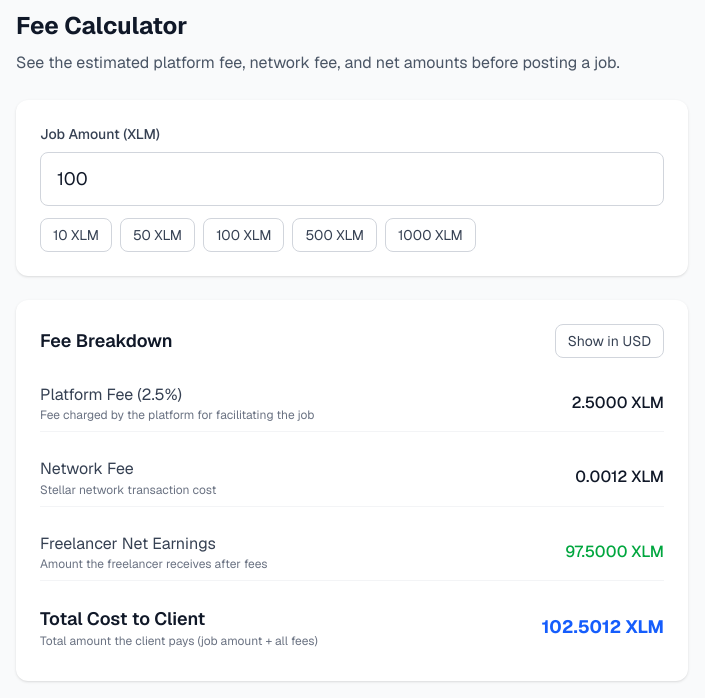
Test case: FeeCalculatorPage › updates amount on quick-preset click
The width and height of the screenshot is (705, 698).
Click the button "500 XLM" at (335, 235), box [292,218,377,252]
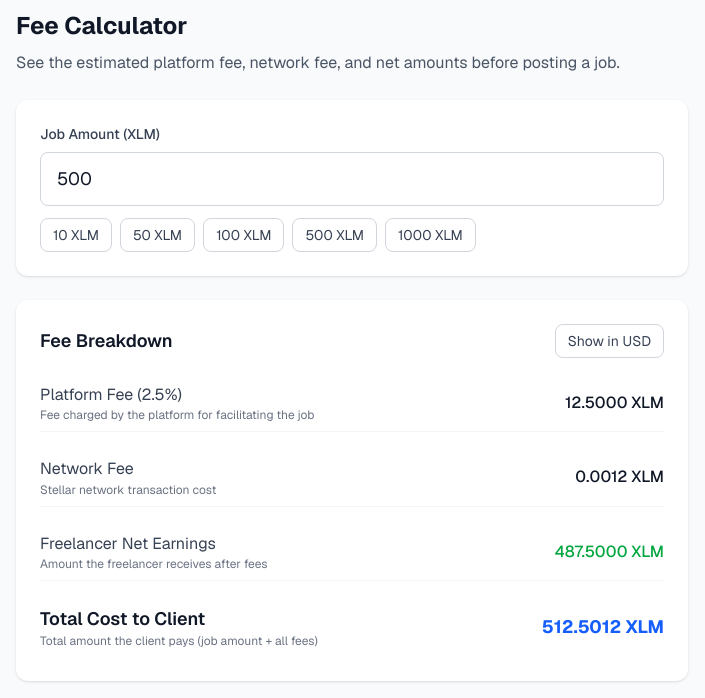
Check: the number field holds "500", box [40,152,664,206]
